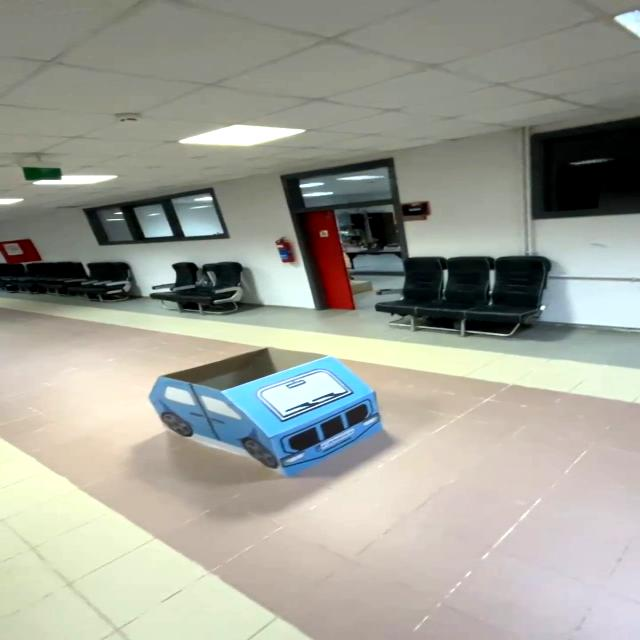blue_car: (121, 335, 412, 491)
